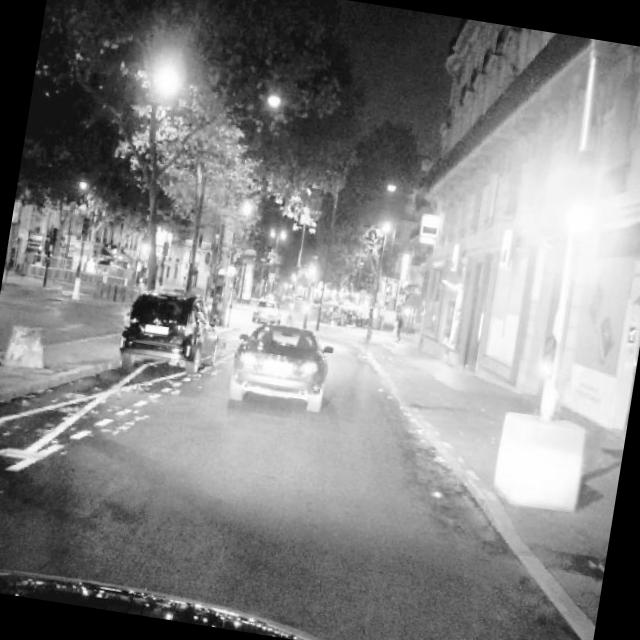Light: (566, 150, 600, 237), (538, 336, 558, 378)
